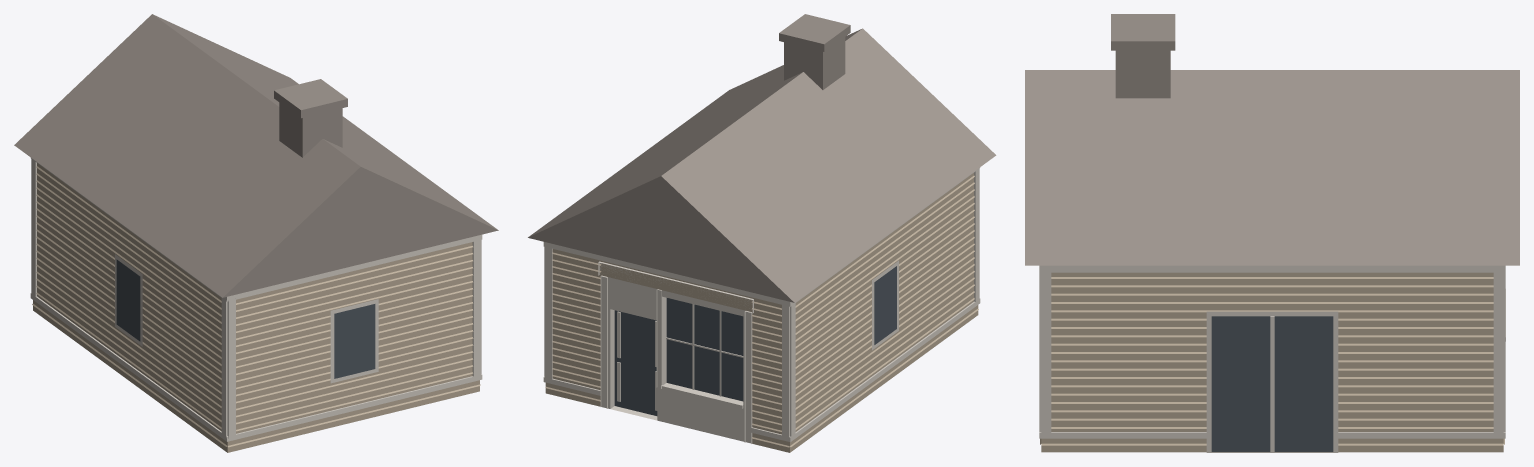
Rendered from recon_1835_south_c1_003__inferred_1835.glb.
3 renders of one model, left to right at view 1: azimuth 30°, elevation 25°; view 2: azimuth 150°, elevation 25°; view 3: azimuth 270°, elevation 25°, orthographic. The views are drawn at different scales.
Visible parts, largest first — view 1: recon_1835_south_c1_003__inferred_1835; view 2: recon_1835_south_c1_003__inferred_1835; view 3: recon_1835_south_c1_003__inferred_1835.
Part boxes in pixels (box(x1,y1,x2,y2)): recon_1835_south_c1_003__inferred_1835: box(14, 14, 498, 452); recon_1835_south_c1_003__inferred_1835: box(528, 14, 996, 452); recon_1835_south_c1_003__inferred_1835: box(1025, 14, 1519, 452).
Size of the model in its own units: 5.76 by 5.9 by 7.53.
